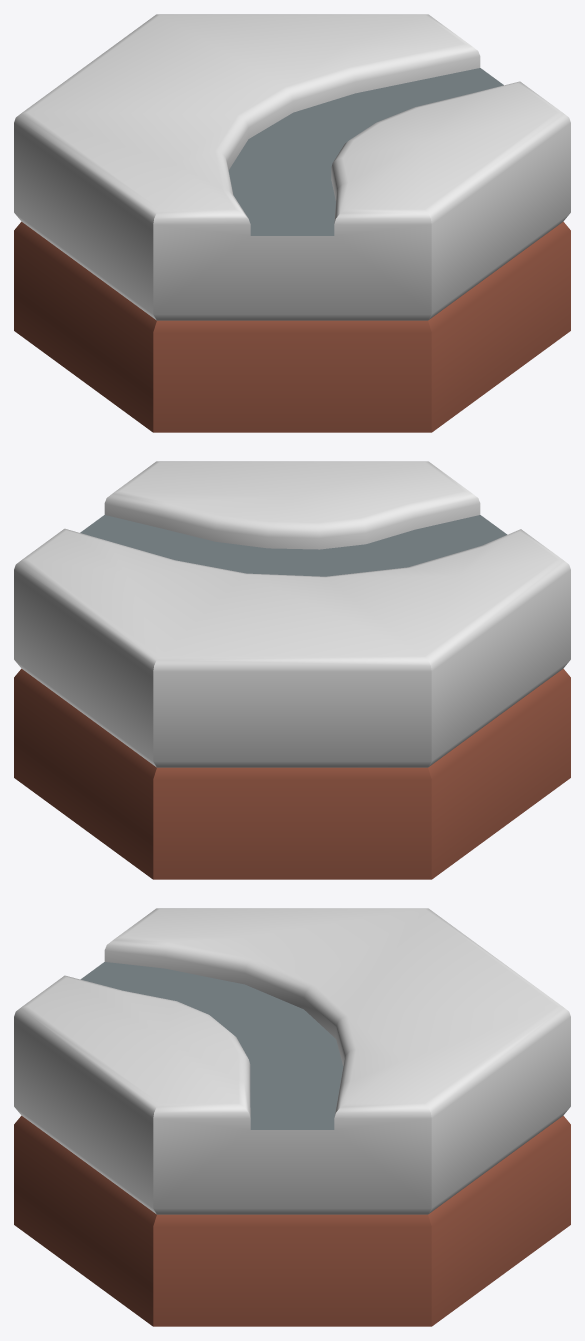
File: hex_snow_roadD_detail.gltf.glb
3 views of the same model, one above another, from view 1: azimuth 30°, elevation 25°; view 2: azimuth 150°, elevation 25°; view 3: azimuth 270°, elevation 25° (orthographic).
Parts seen in each view (by area): view 1: hex_snow_roadD_detail; view 2: hex_snow_roadD_detail; view 3: hex_snow_roadD_detail.
Boxes of the visible parts, <box> form: hex_snow_roadD_detail: <box>14,14,570,432</box>; hex_snow_roadD_detail: <box>14,461,570,879</box>; hex_snow_roadD_detail: <box>14,908,570,1326</box>.
Size of the model in its own units: 2 by 1 by 2.31.
